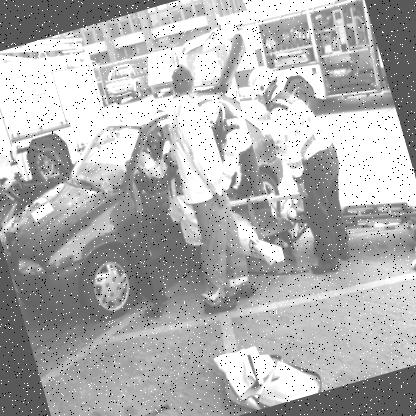Car: (0, 82, 289, 344), (191, 48, 231, 86)
